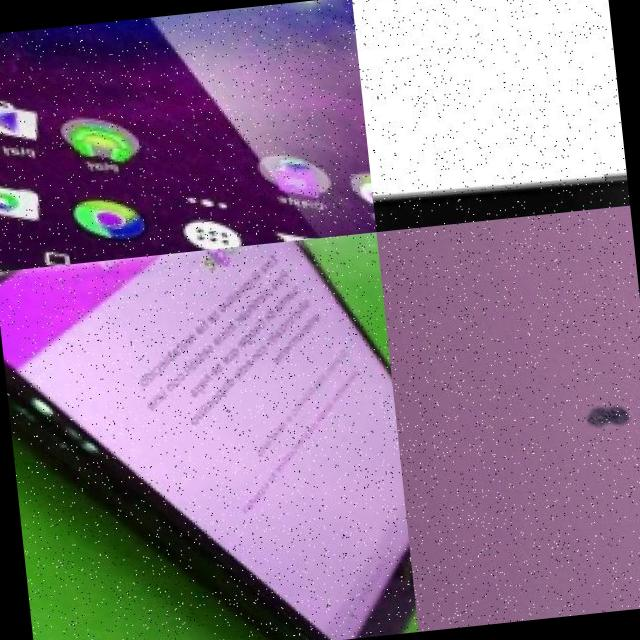dead pixel: (542, 329, 640, 509)
